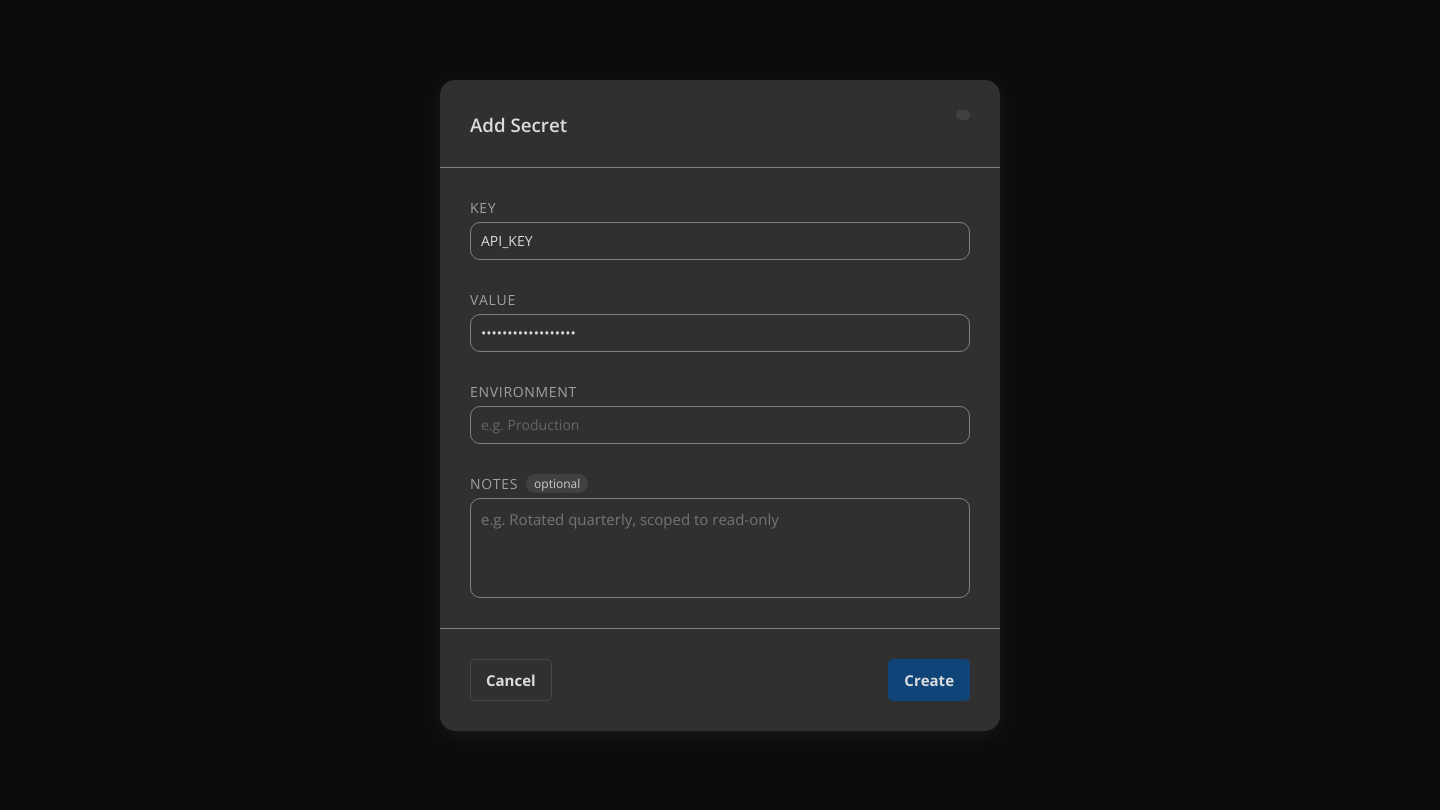
the environment autocomplete › filters case-insensitively as the user types
In the field with placeholder "e.g. Production": point(720, 424) [470,406,970,444], type "prod"
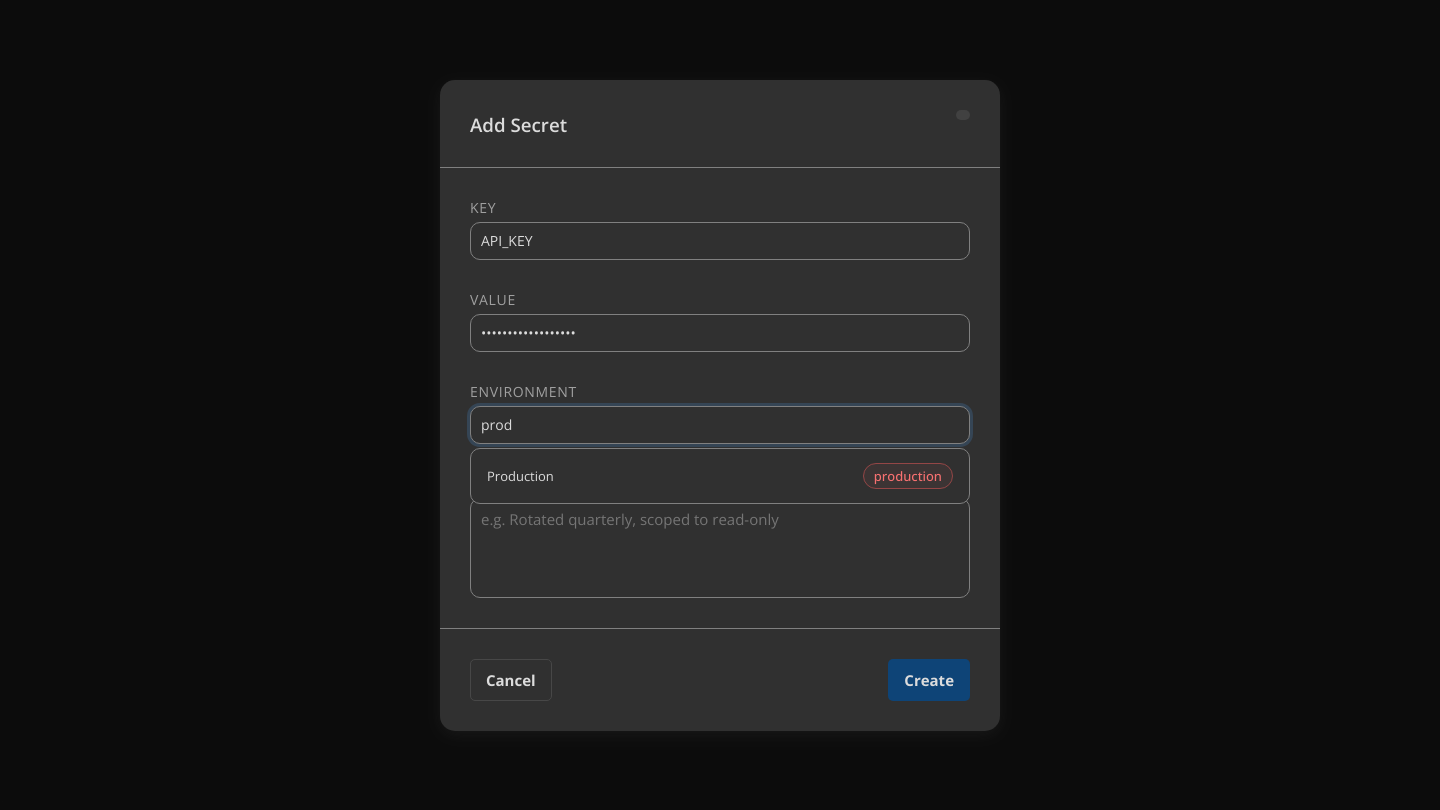
Expected: the text "Production" is shown, [487,467,554,485]
